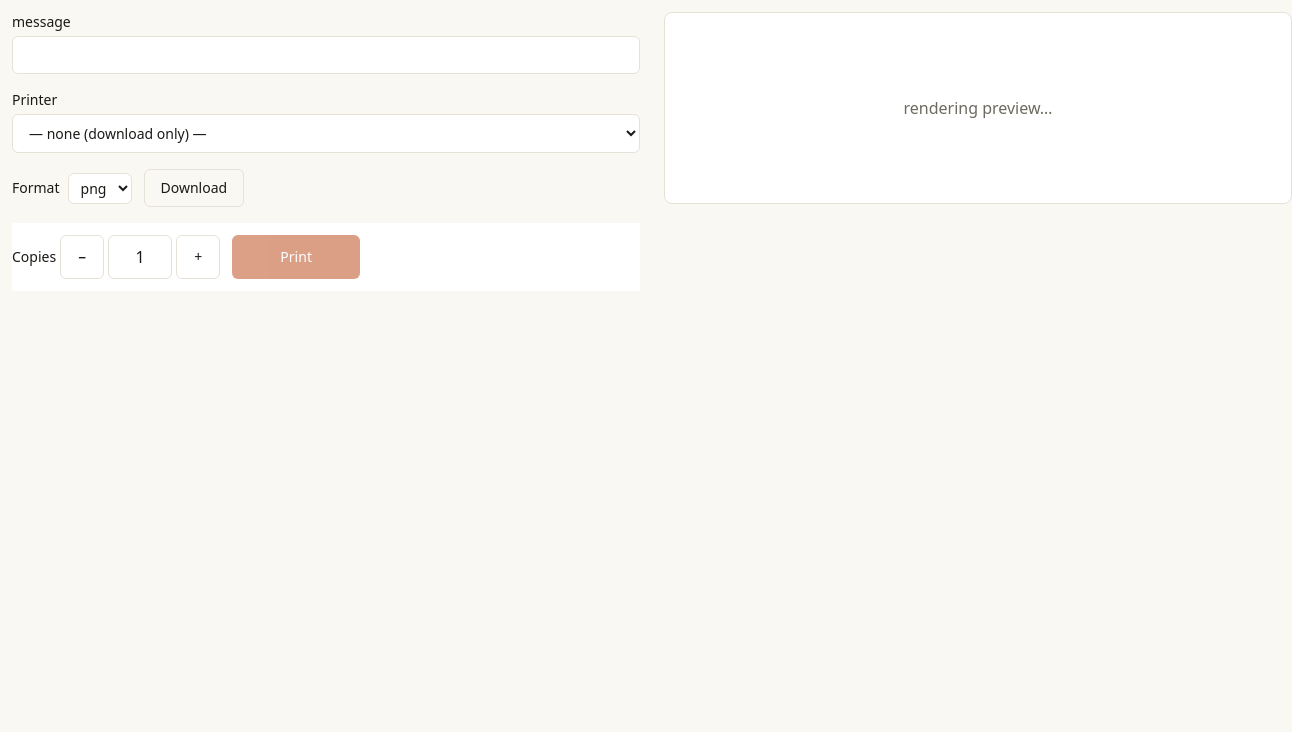
Test case: PrintForm copies › routes a tape Print to /api/print as one label entry carrying `copies`
Type "hello" into the field named "message" at (326, 55), box [12, 36, 640, 74]
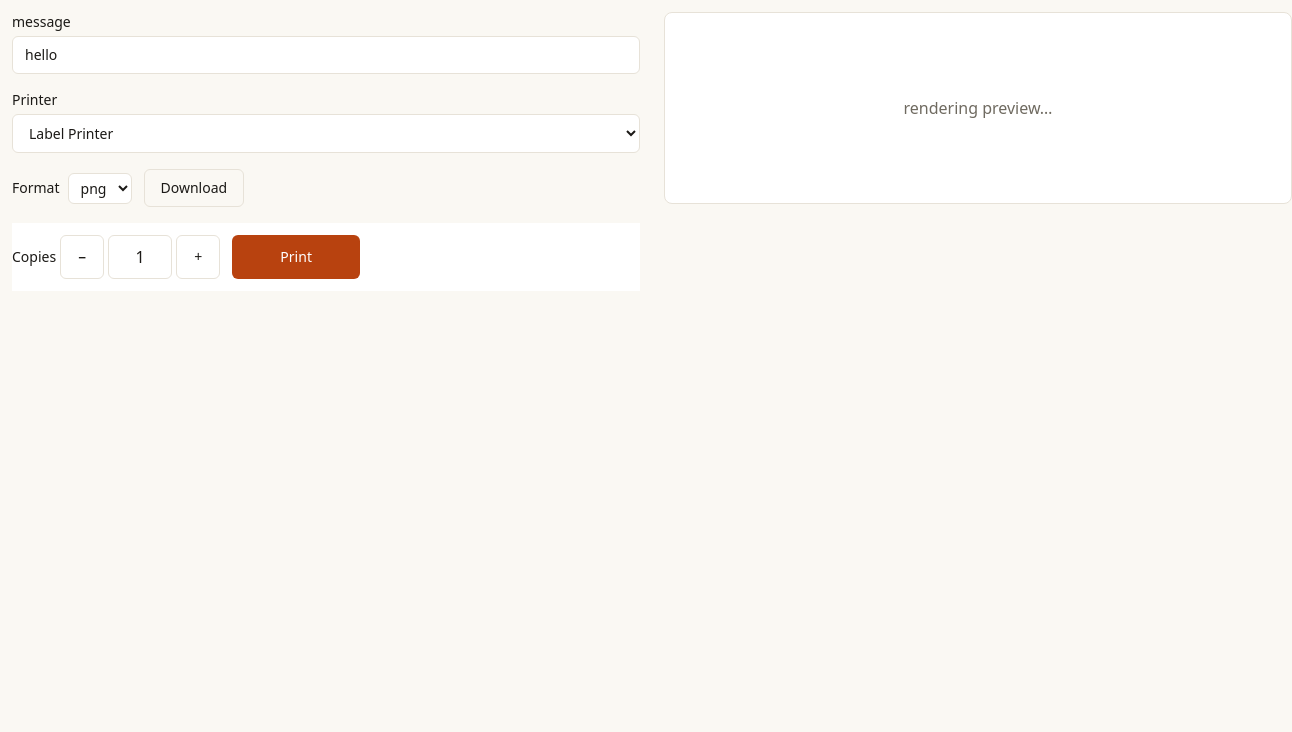
Select "Label Printer" in the dropdown labelled "Printer" at (326, 134), box [12, 114, 640, 153]
Replace the text in the field named "copies" with "3" at (140, 257), box [108, 235, 172, 279]
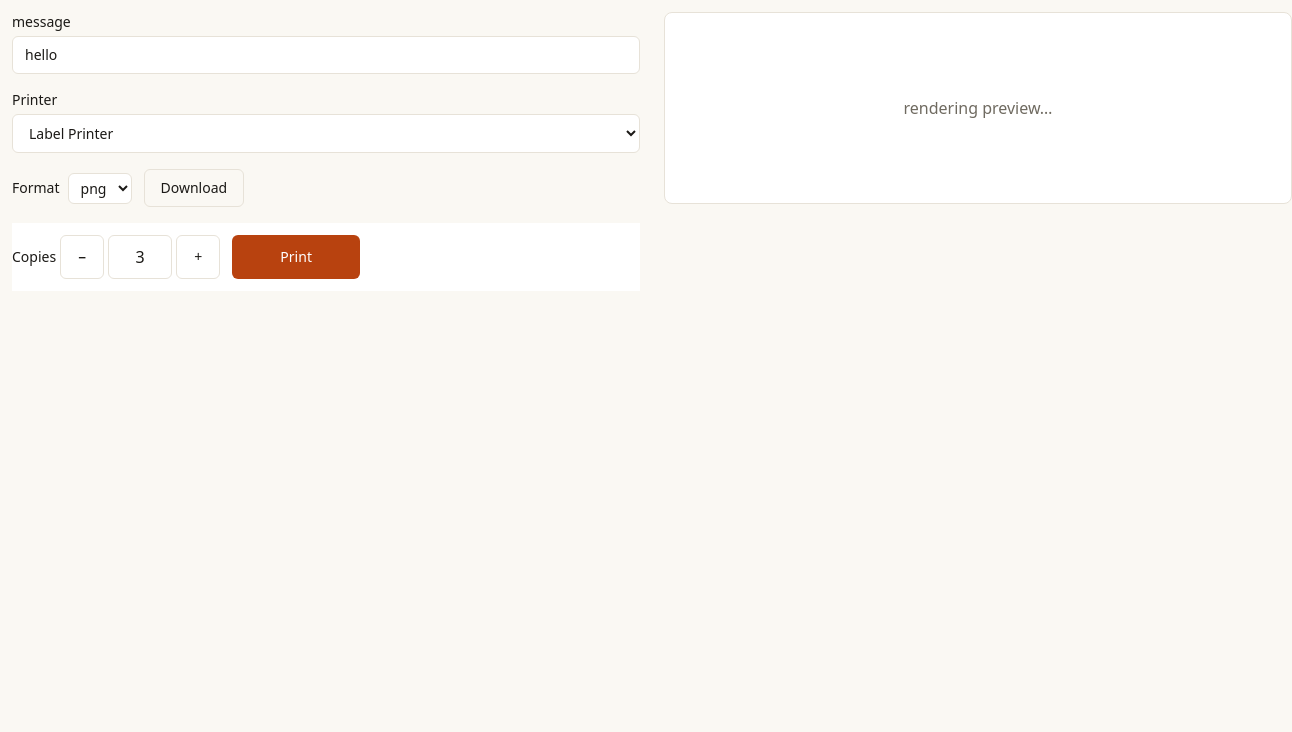
Result: the button "Print" is enabled
Click the button "Print" at (296, 257), box [232, 235, 360, 279]
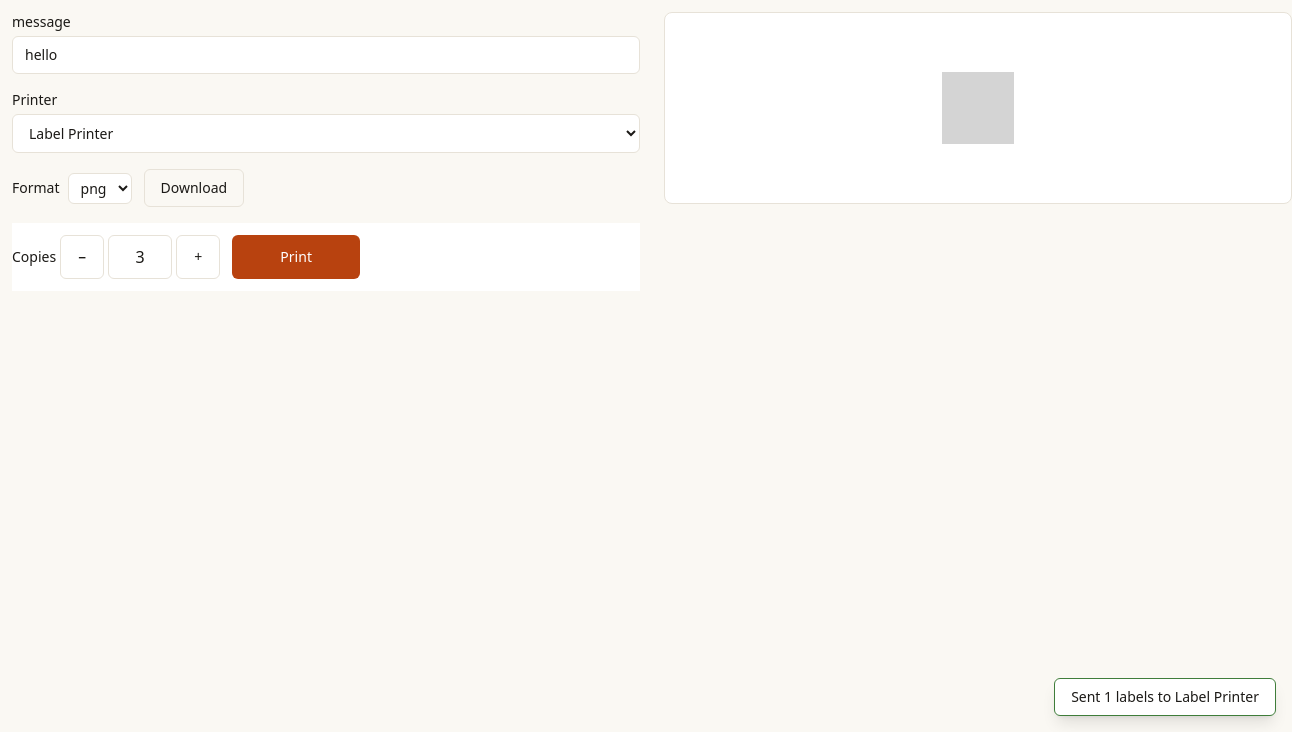
Result: the button "Sent 1 labels to Label Printer" is shown at [1054, 678, 1276, 716]
